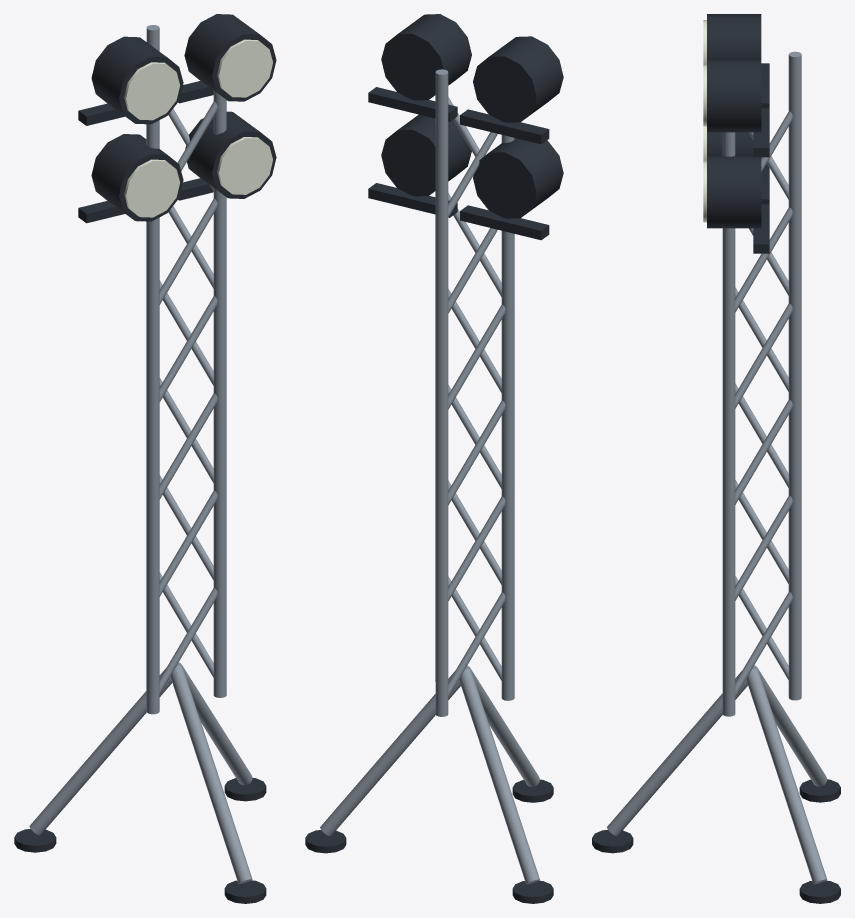
File: bb_set_lighttower.fbx
3 renders of one model, left to right at view 1: azimuth 30°, elevation 25°; view 2: azimuth 150°, elevation 25°; view 3: azimuth 270°, elevation 25°, orthographic.
Parts seen in each view (by area): view 1: bb_set_lighttower; view 2: bb_set_lighttower; view 3: bb_set_lighttower.
Part boxes in pixels (<box>): bb_set_lighttower: <box>14,14,276,903</box>; bb_set_lighttower: <box>305,14,563,903</box>; bb_set_lighttower: <box>592,14,840,903</box>.
Bounding box in the file's own units: 0.9541 × 3.02 × 0.845.
